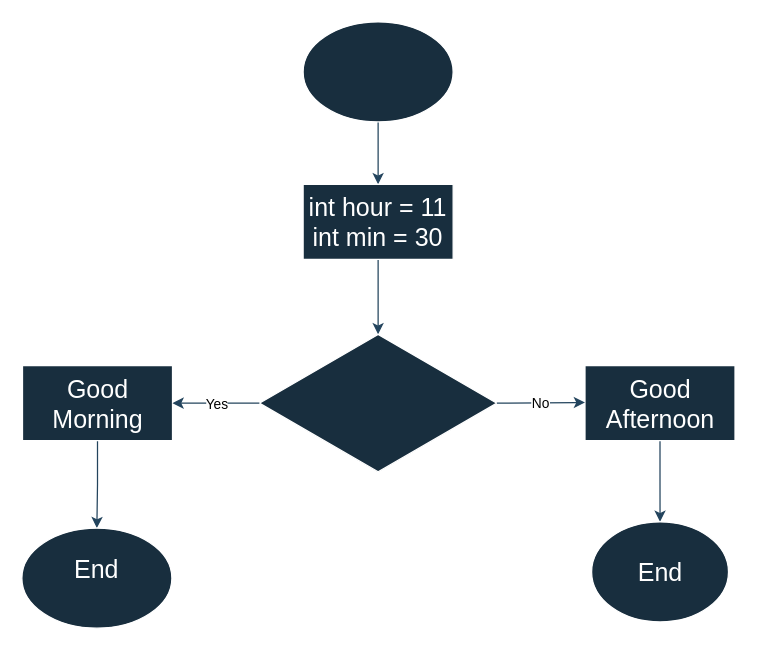
The diagram is 758 pixels wide and 650 high, and some of its shapes have lost their labels. The centre of each missing label's shape, as x and y in pixels:
if hour < 12: point 377,402
Start: point 377,71
